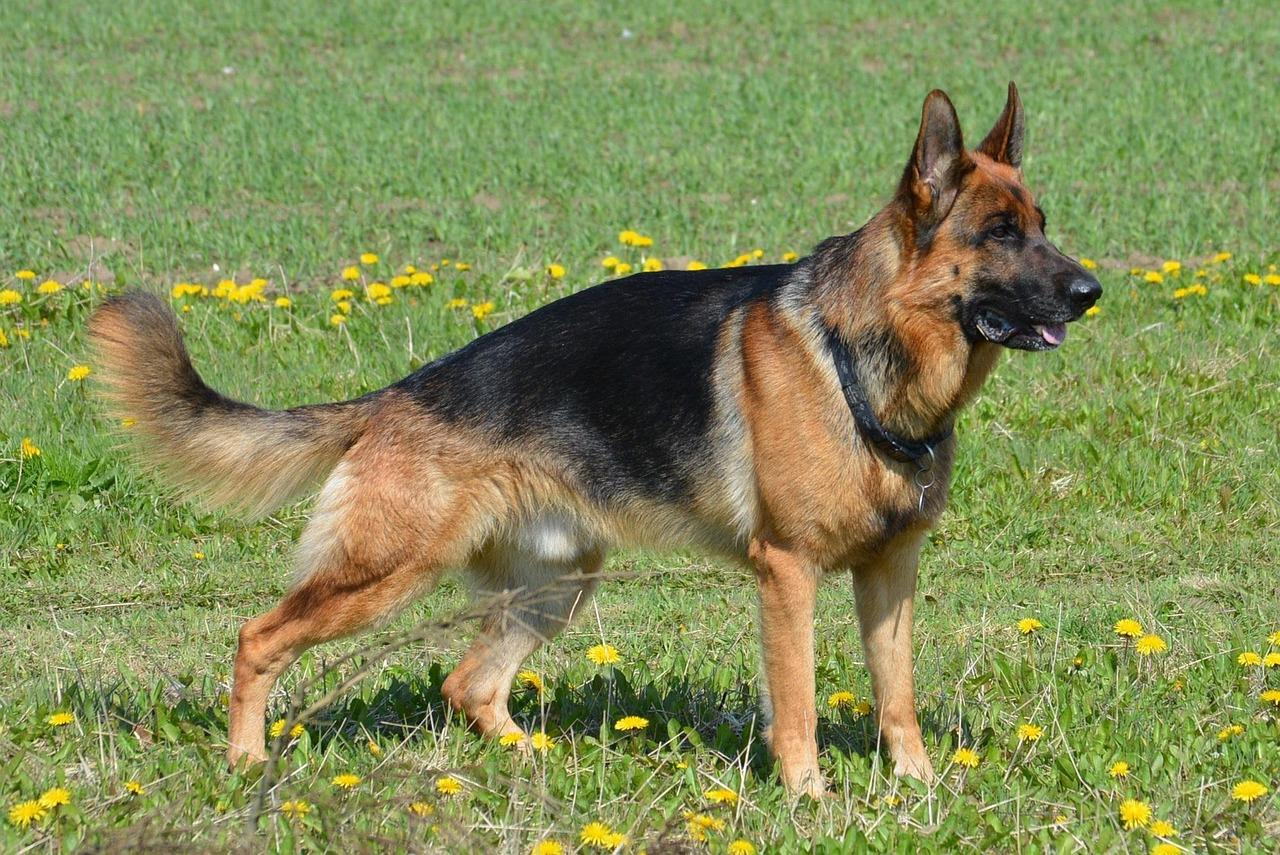german_shepherd: (859, 115, 1112, 365)
